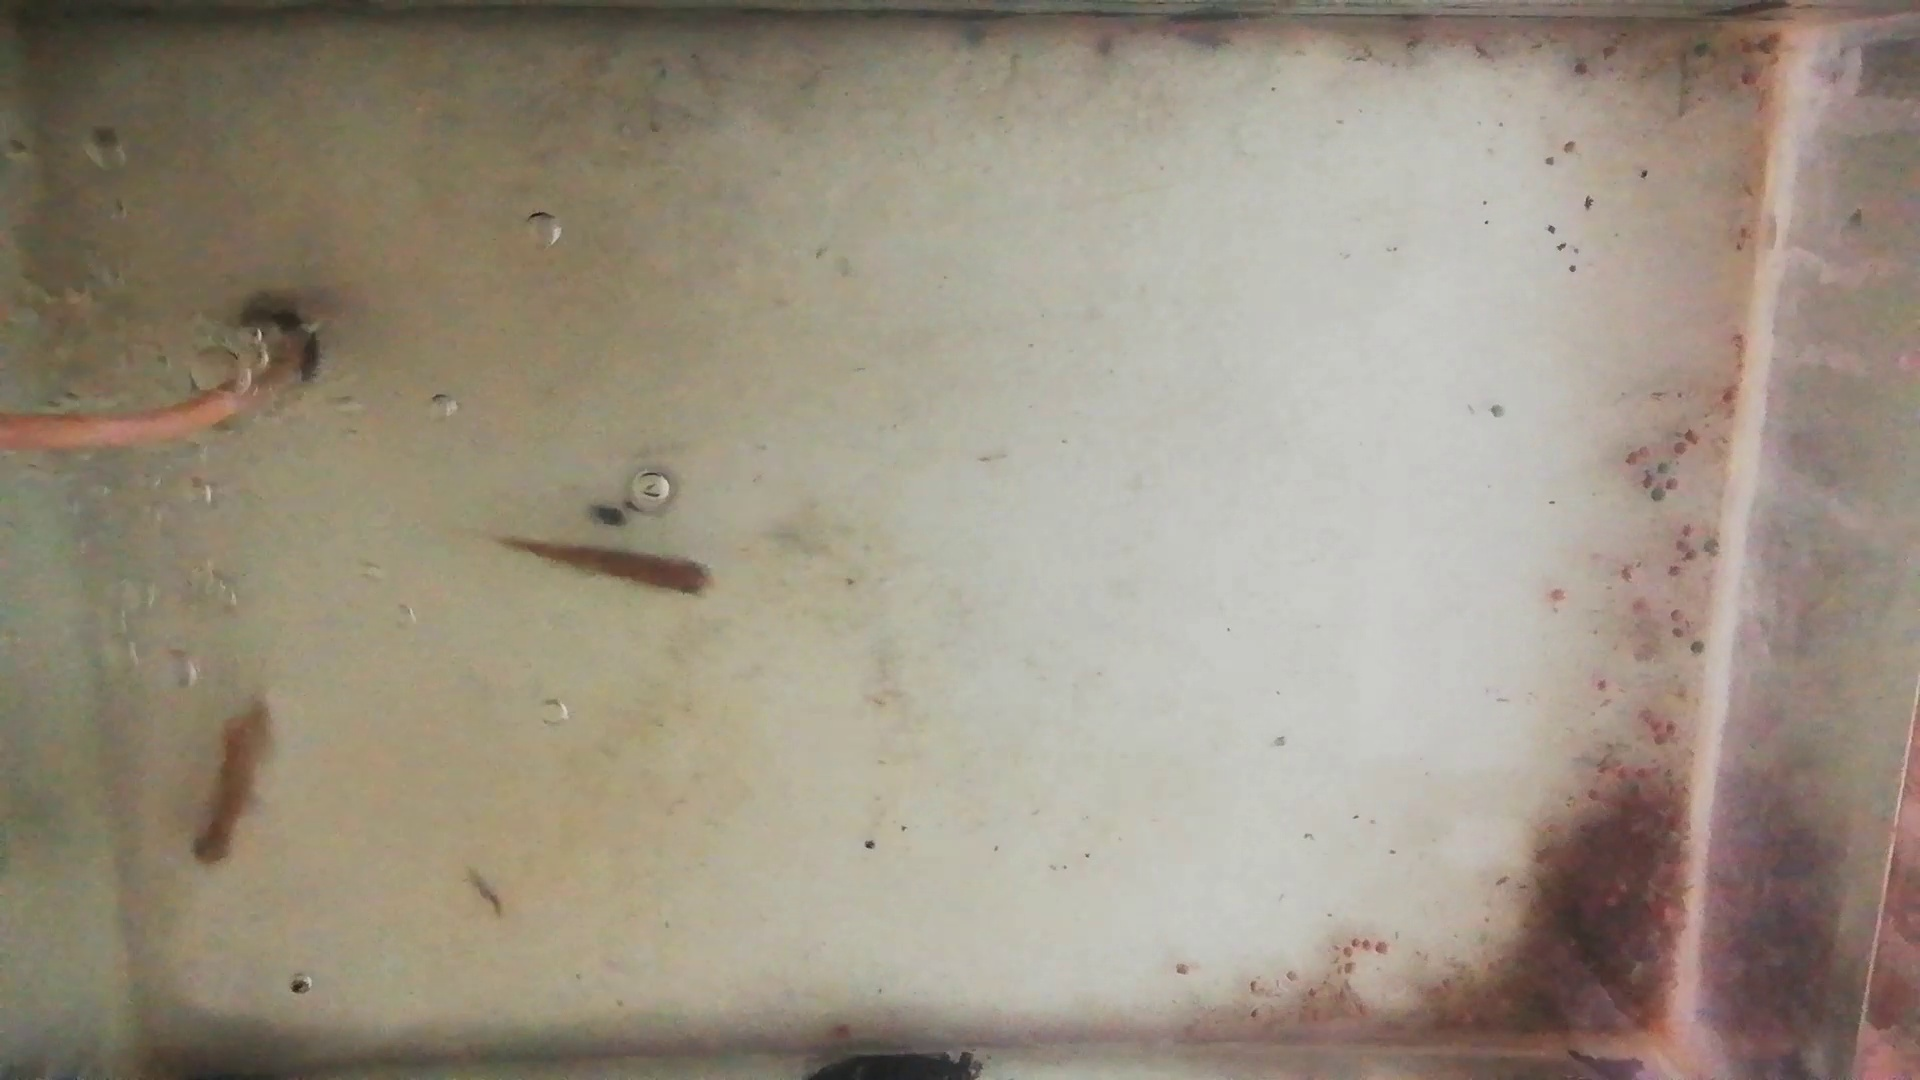fish: (183, 694, 277, 864), (493, 535, 717, 603)
